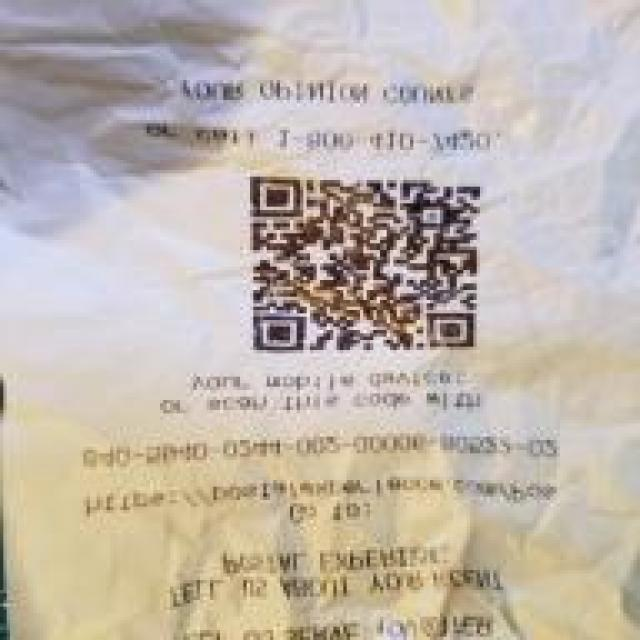qr_code: (251, 176, 481, 352)
